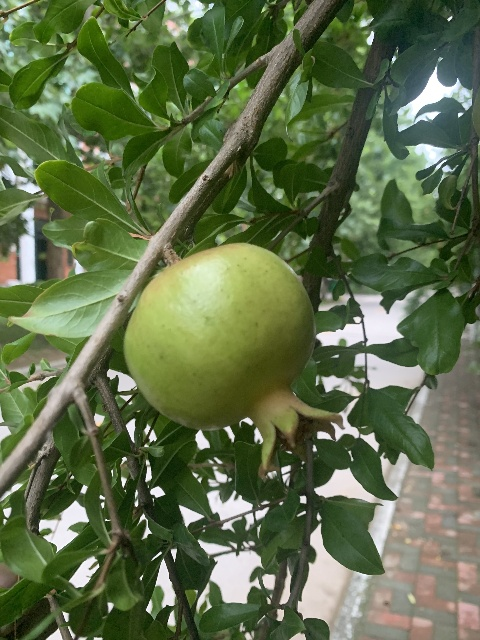mid-growth: (124, 243, 346, 479)
